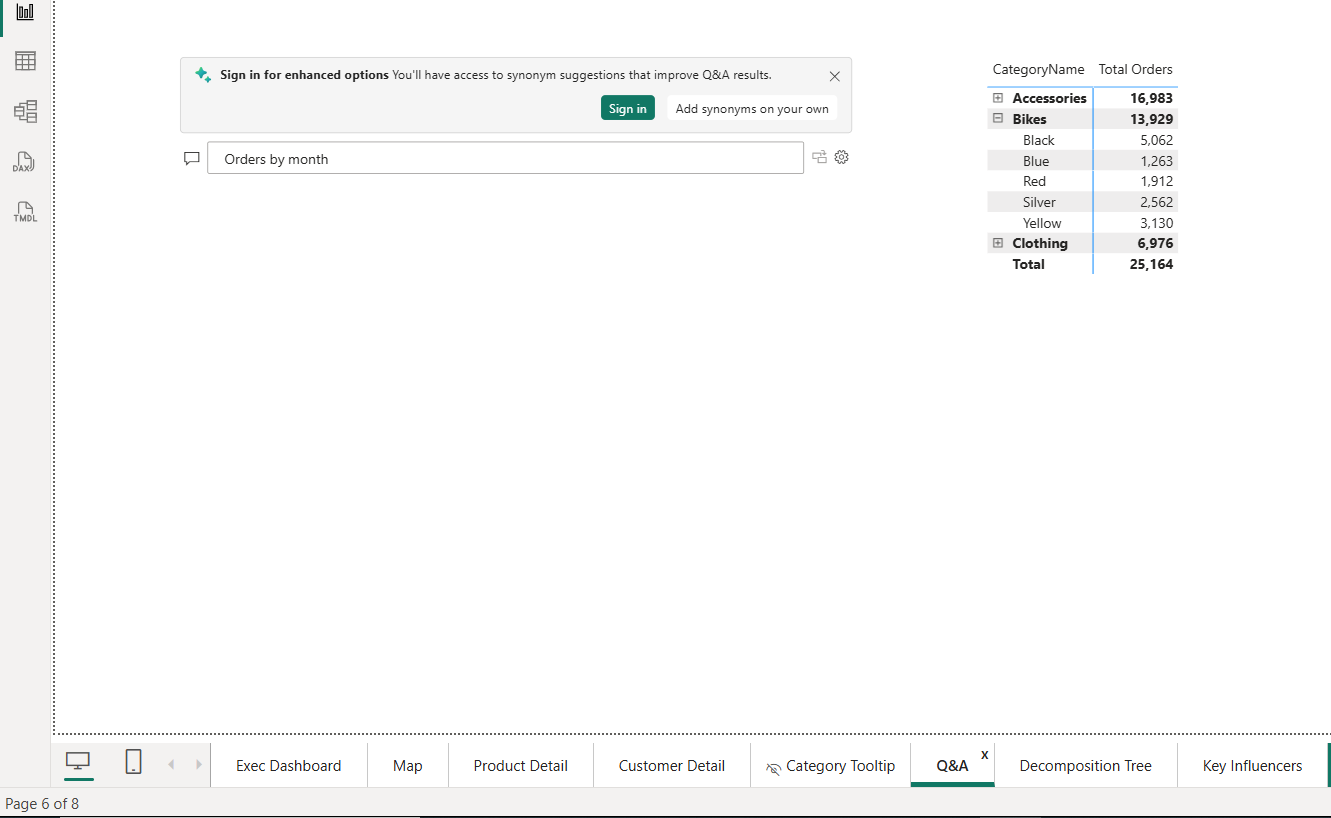

The page's visual inventory and layout, read from the dashboard file:
{"tool":"powerbi","page":{"name":"Q&A","canvas":[1280,720],"ordinal":5},"visuals":[{"type":"qnaVisual","box":[115.3,63.3,659,558.4],"z":0},{"type":"pivotTable","fields":{"Rows":["Product Categories Lookup.CategoryName","Product Lookup.ProductColor"],"Values":["Measure Table.Total Orders"]},"box":[895.2,63.3,309.7,360.6],"z":1000}]}

Visuals, with their boxes on the page's 1280x720 design canvas (x1, y1, x2, y2). These are canvas units, not pixel positions in the 1331x818 screenshot, which may show the page scaled, cropped or inside an application window:
qnaVisual: Rect(115, 63, 774, 622)
pivotTable - Product Categories Lookup.CategoryName x Product Lookup.ProductColor: Rect(895, 63, 1205, 424)
